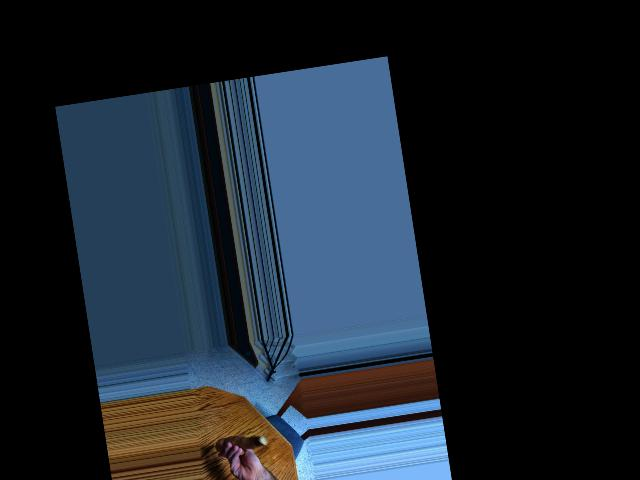sweet_potato: (216, 430, 269, 458)
